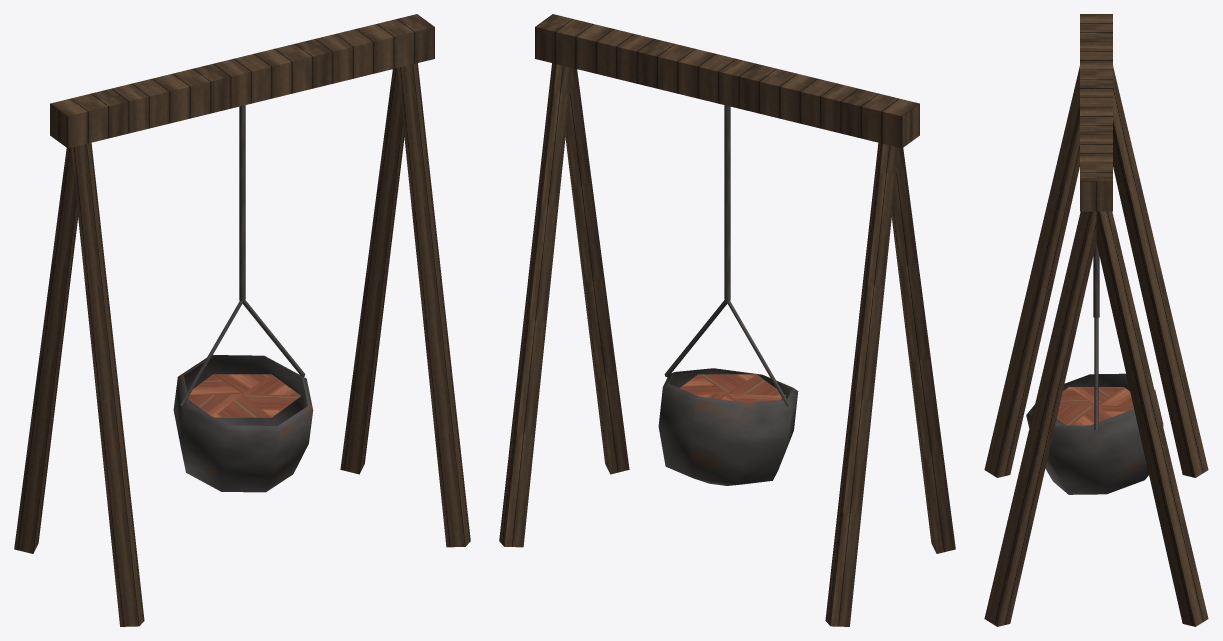
Rendered from Crucible_Hanging_1_LOD1.gltf.
3 views of the same model, side by side, from view 1: azimuth 30°, elevation 25°; view 2: azimuth 150°, elevation 25°; view 3: azimuth 270°, elevation 25° (orthographic). The views are drawn at different scales.
Visible parts, largest first — view 1: Crucible_Hanging_1_LOD1; view 2: Crucible_Hanging_1_LOD1; view 3: Crucible_Hanging_1_LOD1.
Boxes of the visible parts, left/top/right/bottom form: Crucible_Hanging_1_LOD1: left=14, top=14, right=470, bottom=626; Crucible_Hanging_1_LOD1: left=499, top=14, right=955, bottom=626; Crucible_Hanging_1_LOD1: left=984, top=14, right=1208, bottom=626.
Bounding box in the file's own units: 3.6 × 4.52 × 2.03.
Materials: 3 (3 with a texture image).
